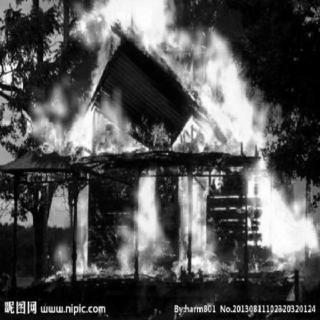Fire: (77, 172, 315, 276), (36, 95, 98, 157)
